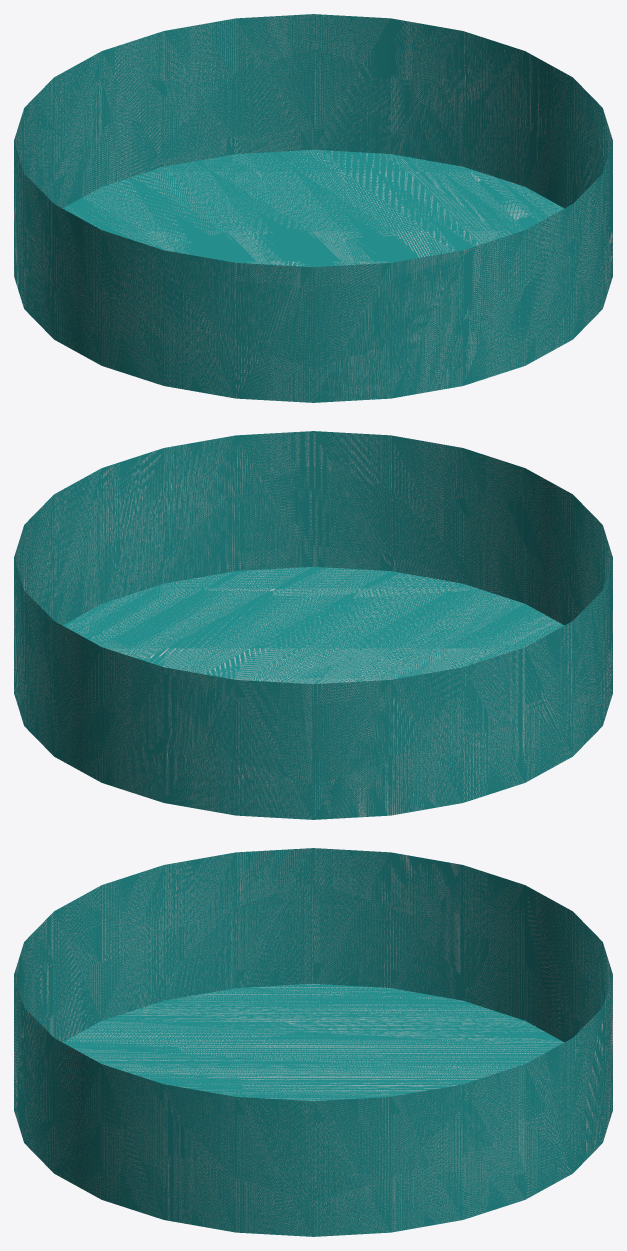
The model's file is original-28.obj.
3 views of the same model, one above another, from view 1: azimuth 30°, elevation 25°; view 2: azimuth 150°, elevation 25°; view 3: azimuth 270°, elevation 25° (orthographic).
Visible parts, largest first — view 1: 3dw.b296fbfbbe5dccf09c12d6260da9ac2b/Model/mesh1/mesh1-geometry/; view 2: 3dw.b296fbfbbe5dccf09c12d6260da9ac2b/Model/mesh1/mesh1-geometry/; view 3: 3dw.b296fbfbbe5dccf09c12d6260da9ac2b/Model/mesh1/mesh1-geometry/.
Boxes of the visible parts, x1,y1,x2,y2 form: 3dw.b296fbfbbe5dccf09c12d6260da9ac2b/Model/mesh1/mesh1-geometry/: (14, 14, 612, 402); 3dw.b296fbfbbe5dccf09c12d6260da9ac2b/Model/mesh1/mesh1-geometry/: (14, 431, 612, 819); 3dw.b296fbfbbe5dccf09c12d6260da9ac2b/Model/mesh1/mesh1-geometry/: (14, 848, 612, 1236).
Size of the model in its own units: 0.0713 by 0.0178 by 0.0713.
